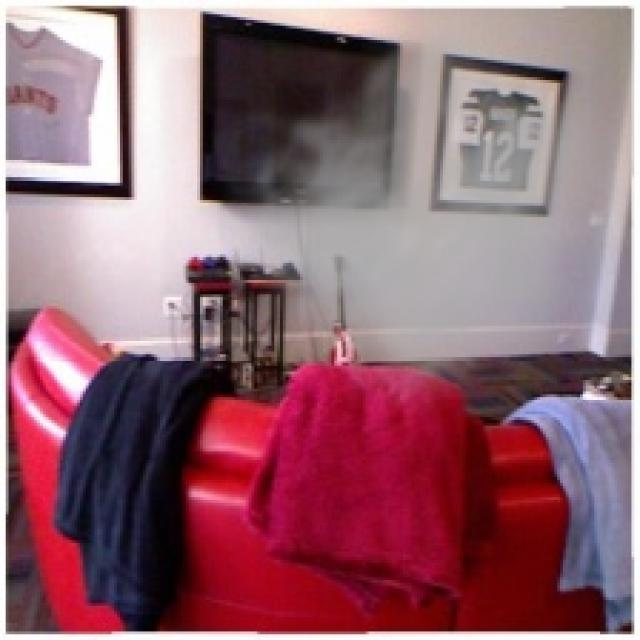Smoke: (206, 6, 592, 423)
